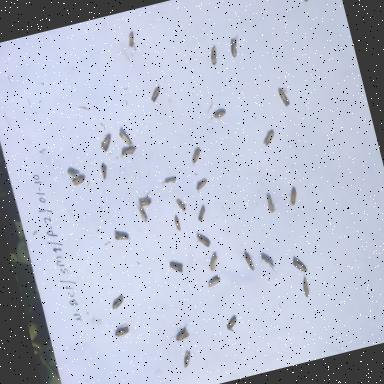pbw: (182, 140, 208, 169), (294, 272, 318, 302), (236, 244, 258, 276), (166, 321, 194, 346), (288, 250, 312, 276), (206, 101, 232, 124), (221, 310, 244, 336), (96, 128, 118, 154), (274, 82, 294, 110), (282, 181, 301, 210), (188, 202, 210, 227), (192, 227, 214, 250), (66, 170, 89, 192), (112, 321, 134, 344), (206, 42, 224, 70), (108, 292, 130, 314), (204, 270, 226, 292), (166, 255, 187, 278), (178, 346, 198, 370), (256, 250, 276, 274), (226, 34, 243, 62), (94, 160, 115, 182), (131, 204, 152, 226), (189, 174, 211, 195), (116, 142, 140, 160), (258, 127, 278, 148), (110, 226, 130, 246), (134, 190, 156, 208), (264, 188, 278, 215), (170, 210, 184, 236), (64, 162, 82, 182), (124, 28, 142, 48), (206, 251, 223, 272), (118, 127, 134, 149), (147, 83, 164, 103), (171, 194, 187, 214), (286, 0, 314, 8), (160, 175, 177, 187)
